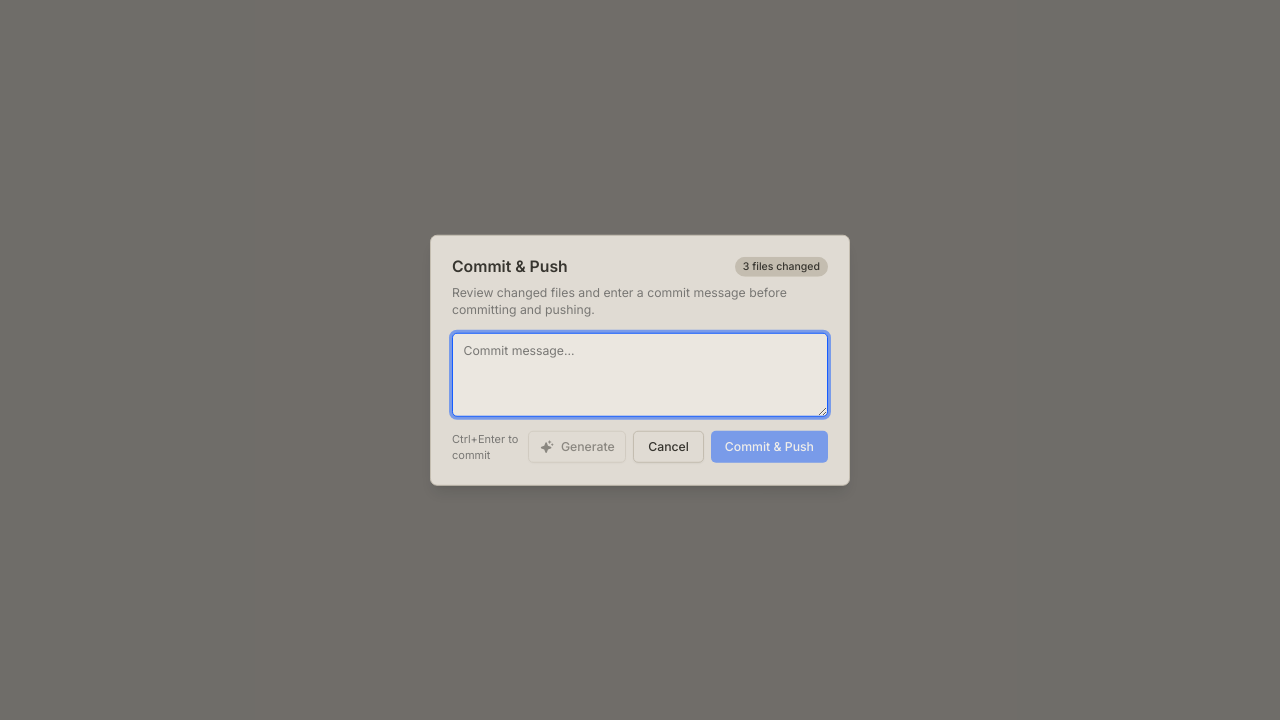
CommitDialog › enables Commit button when message is typed
The width and height of the screenshot is (1280, 720).
Type "fix: bug fix" into the text box with placeholder "Commit message..." at point(640, 374), box [452,332,828,416]
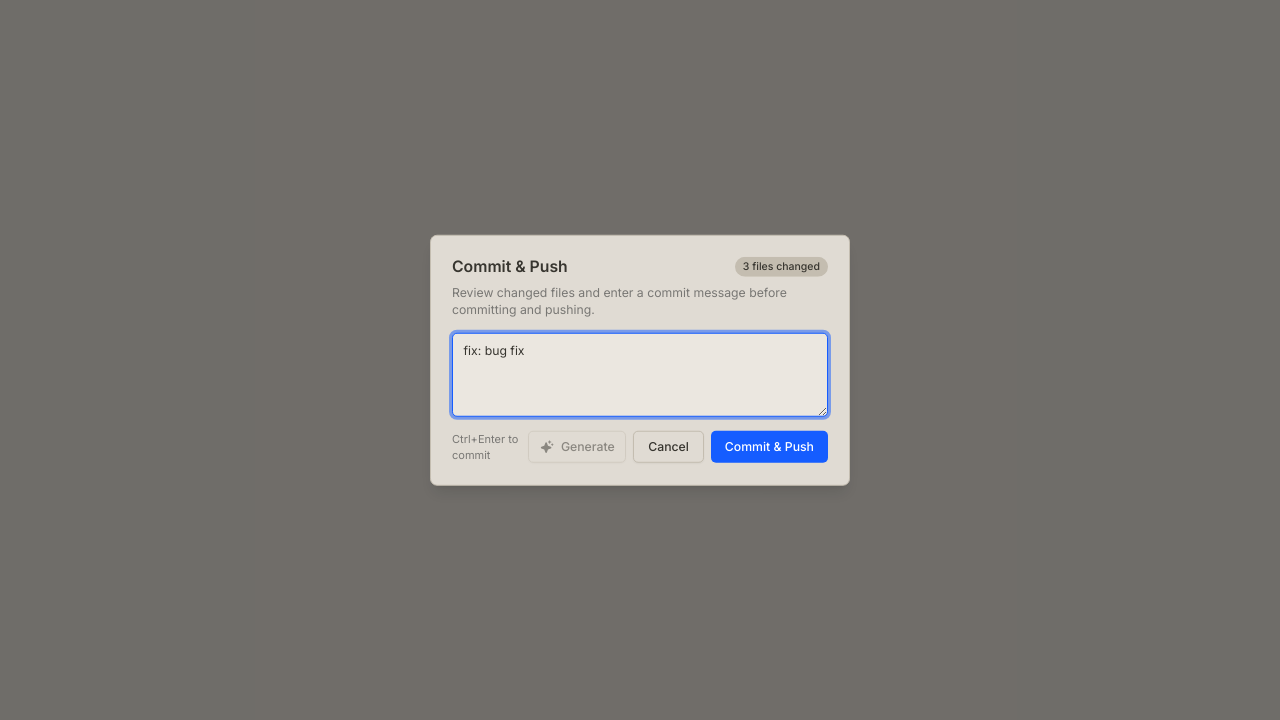
Expected: the button "Commit & Push" is enabled, [711,431,828,462]
